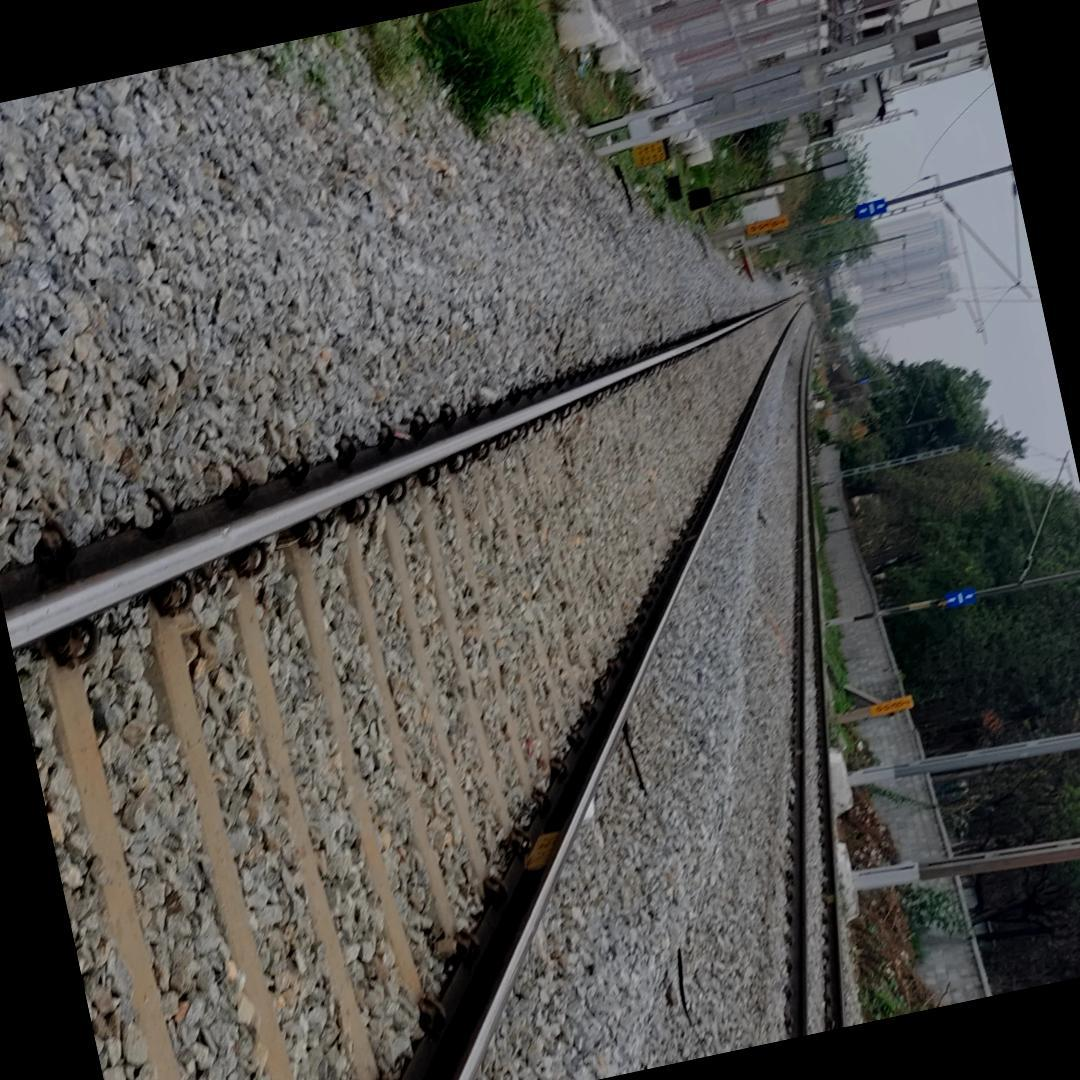standing: (788, 276, 806, 288)
track: (14, 272, 818, 1080)
